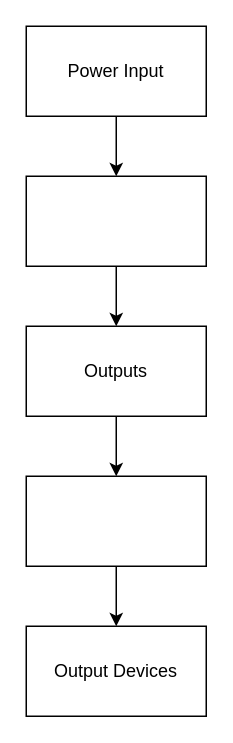
The diagram is 233 pixels wide and 743 high, and some of its shapes have lost their labels. Each missing label, with the centre of its shape:
Inputs: the point at 115,220
Output Drivers: the point at 115,520
